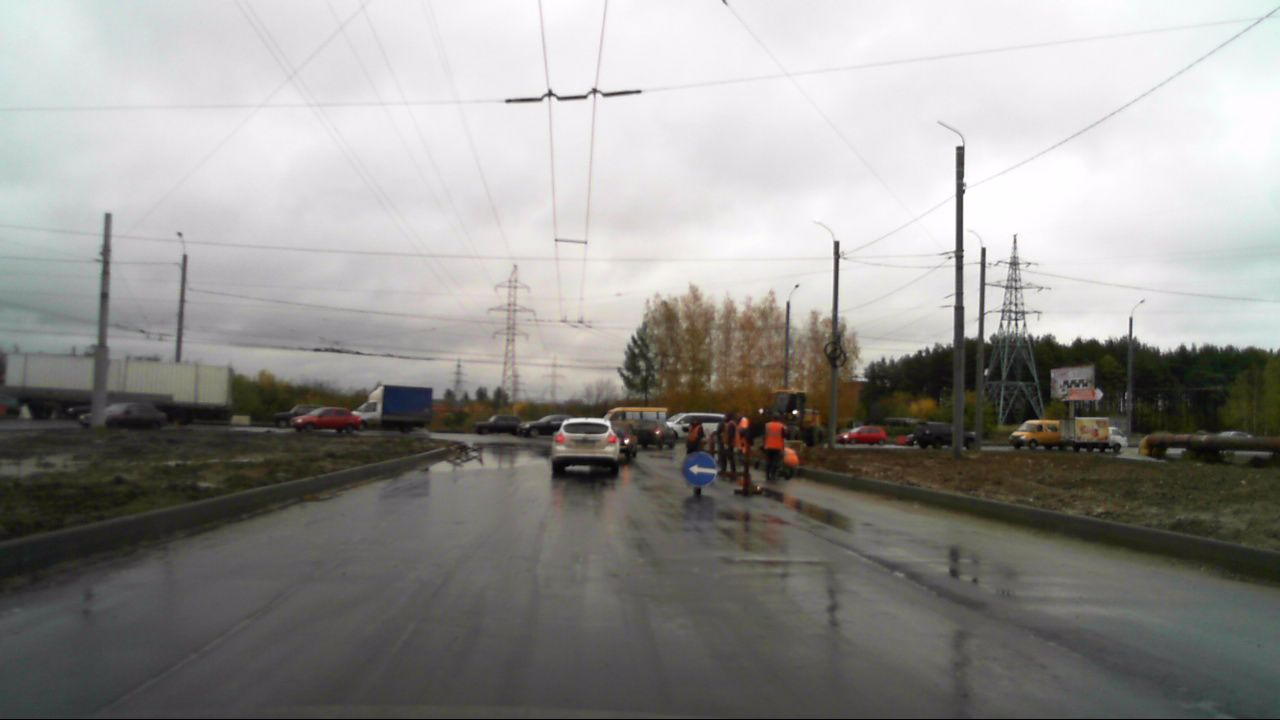Turn Left: (682, 452, 717, 486)
